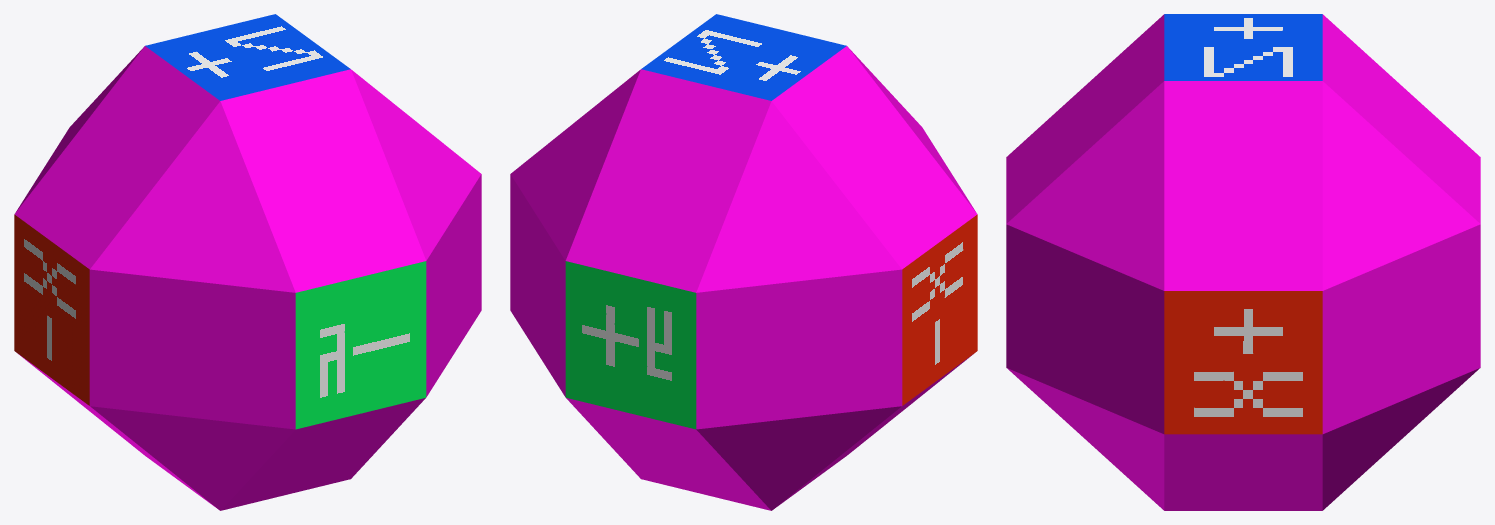
File: ball.fbx
3 renders of one model, left to right at view 1: azimuth 30°, elevation 25°; view 2: azimuth 150°, elevation 25°; view 3: azimuth 270°, elevation 25°, orthographic. The views are drawn at different scales.
Visible parts, largest first — view 1: Cube; view 2: Cube; view 3: Cube.
Boxes of the visible parts, x1,y1,x2,y2 form: Cube: (14, 14, 481, 510); Cube: (510, 14, 977, 510); Cube: (1006, 14, 1480, 510).
Size of the model in its own units: 600 by 600 by 600.
Materials: 1 (1 with a texture image).
